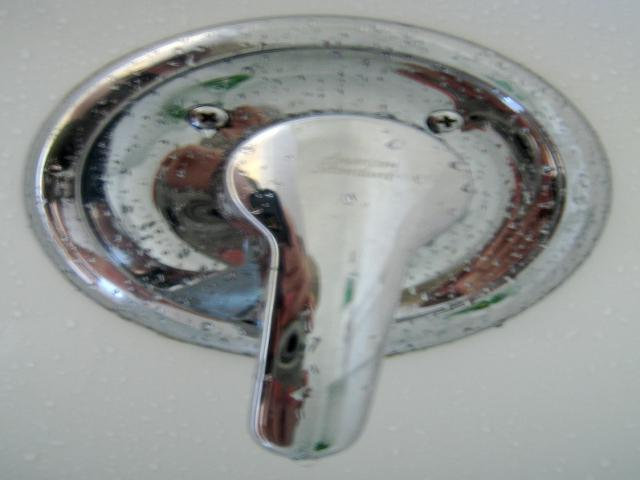Door-handle: (20, 14, 620, 466)
